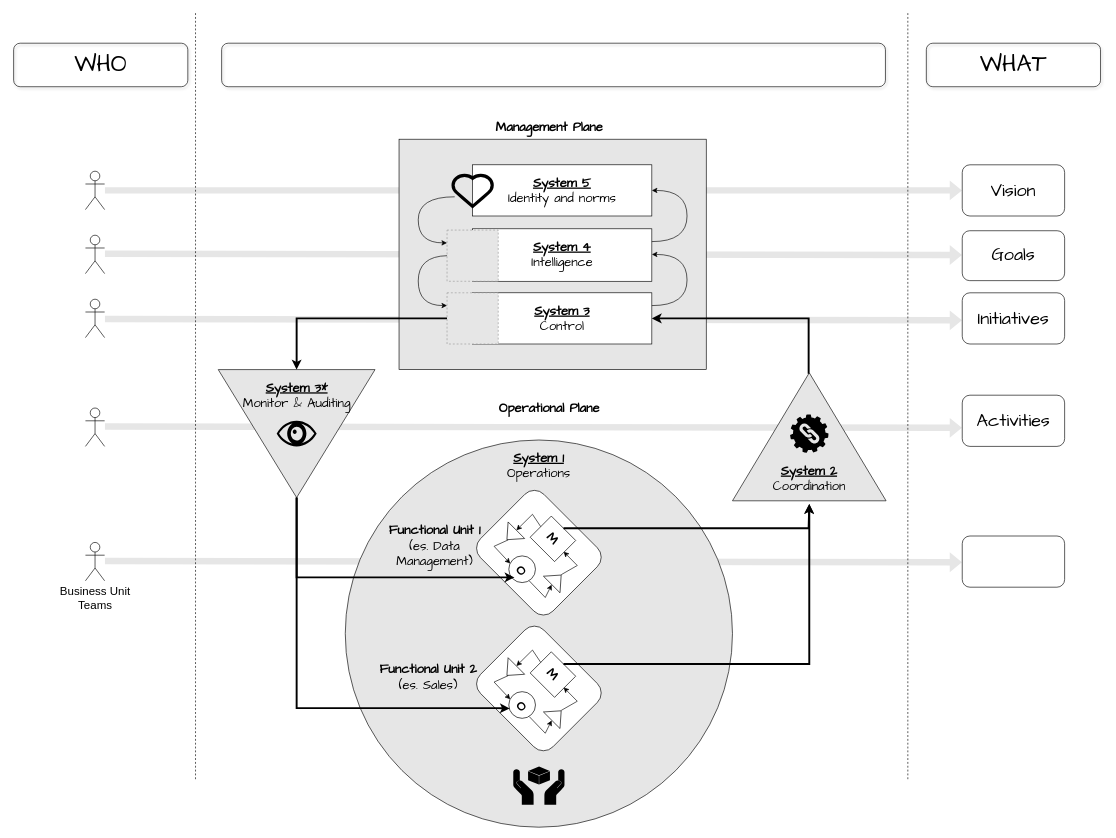
Image size: 1116x838. Some labels were removed from this diagram. Grey dashed boxes stand in for pictures. Each missing label, with the centre of its shape:
Audit, Risks, Compliance Teams: pixel 95 318
Deliverables: pixel 1013 561
HOW: pixel 553 65
Leadership team: pixel 95 190
Management team: pixel 95 254
PMO Team: pixel 95 426
